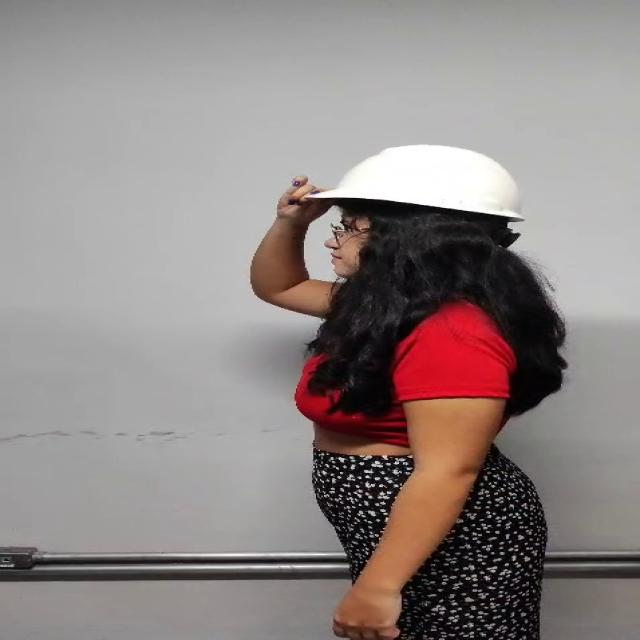capacete: (270, 117, 540, 253)
